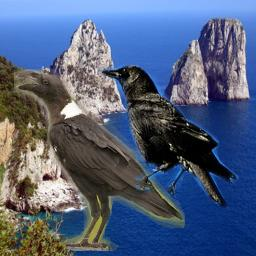Crow: (14, 69, 185, 251), (94, 63, 239, 210)
